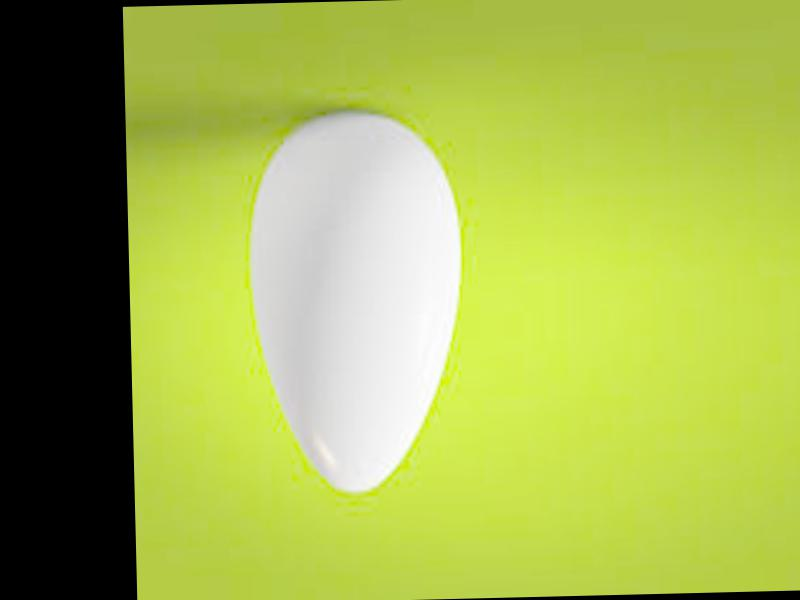Eggs: (248, 112, 466, 499)
